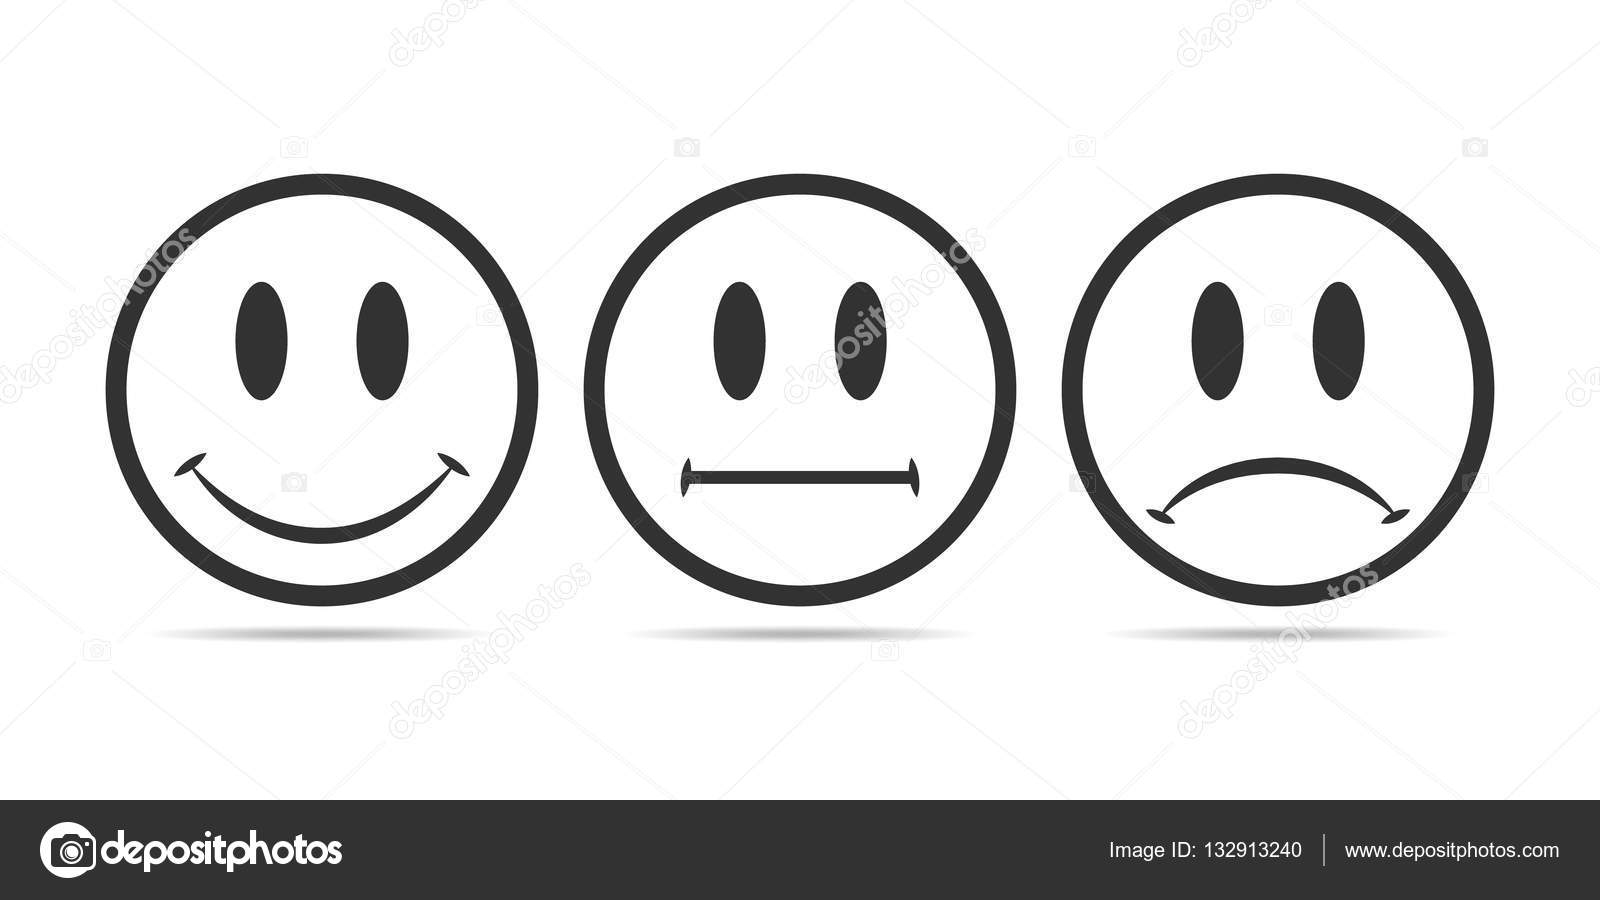triste: (1130, 255, 1410, 540)
